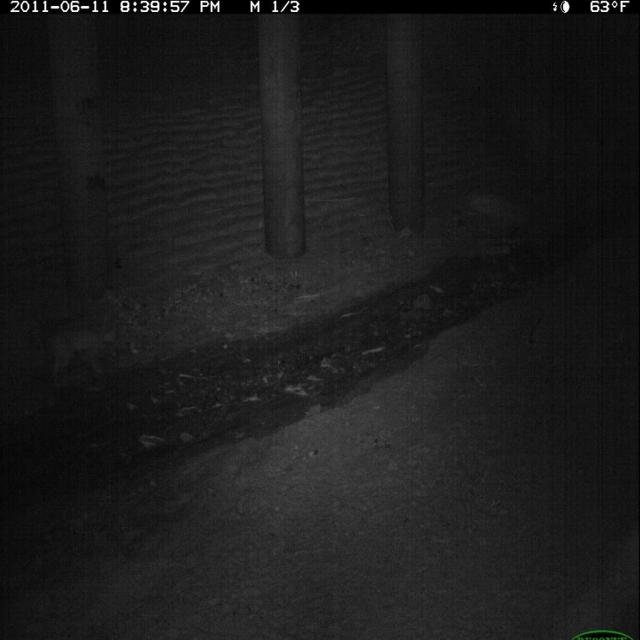bobcat: (47, 317, 124, 398)
